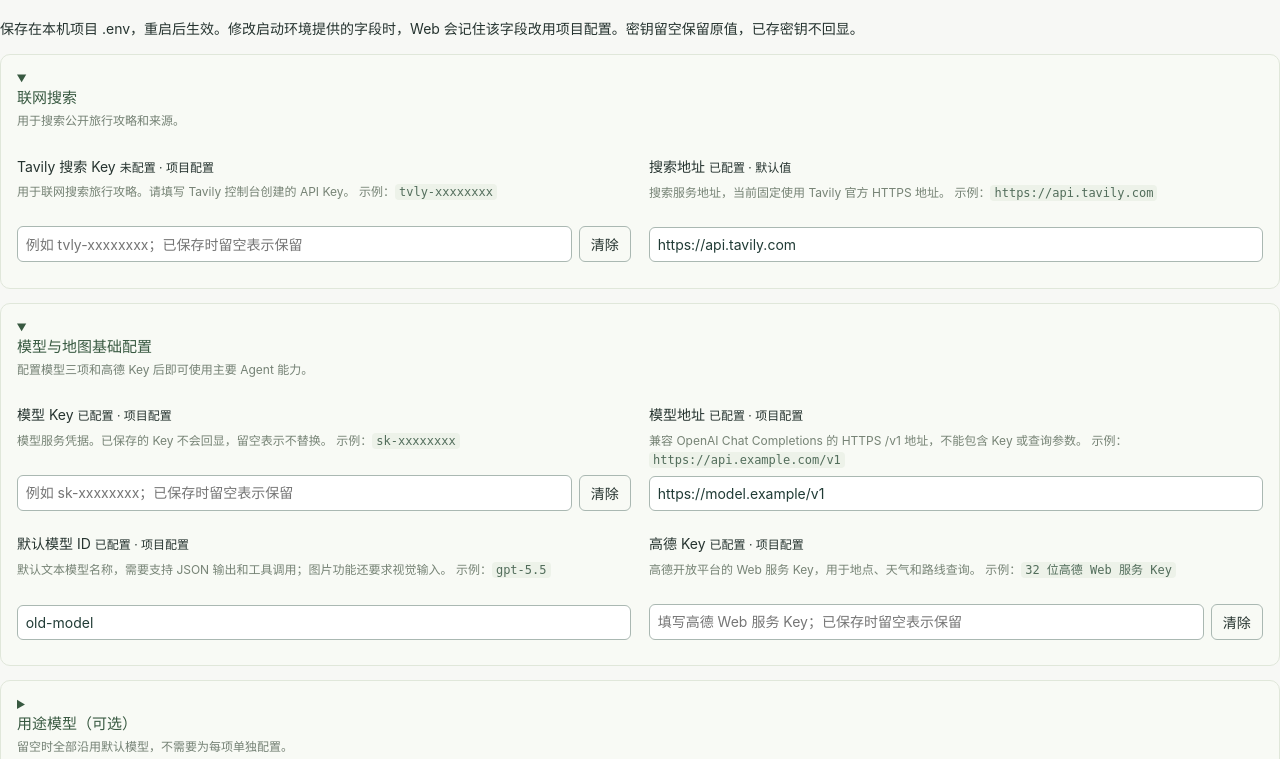
Test: explains why changing a configured model endpoint requires a replacement key
This screenshot has width=1280, height=759.
Replace the text in the field labelled "模型地址 已配置 · 项目配置" with "https://new.example/v1" at (956, 493), box 649,476 -> 1263,511
(page scrolled)
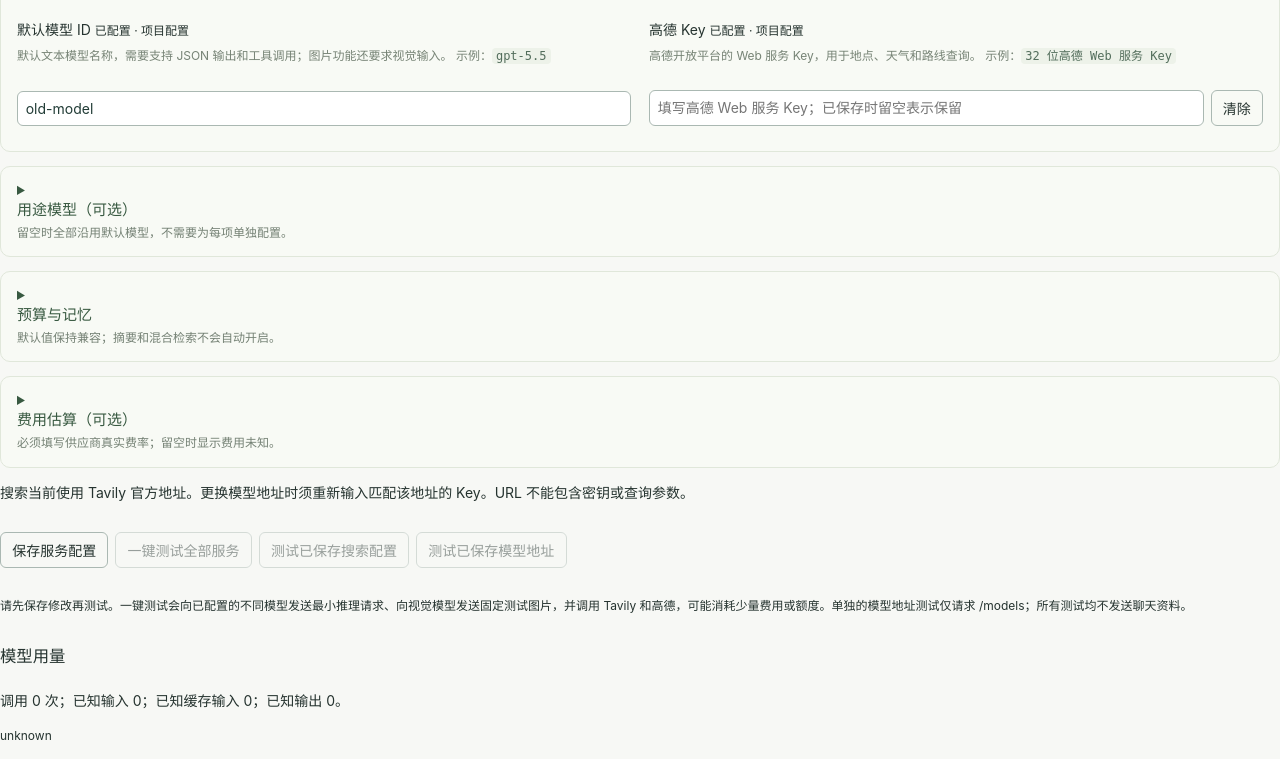
Click the button "保存服务配置" at (54, 550), box 0,532 -> 108,568
(page scrolled)
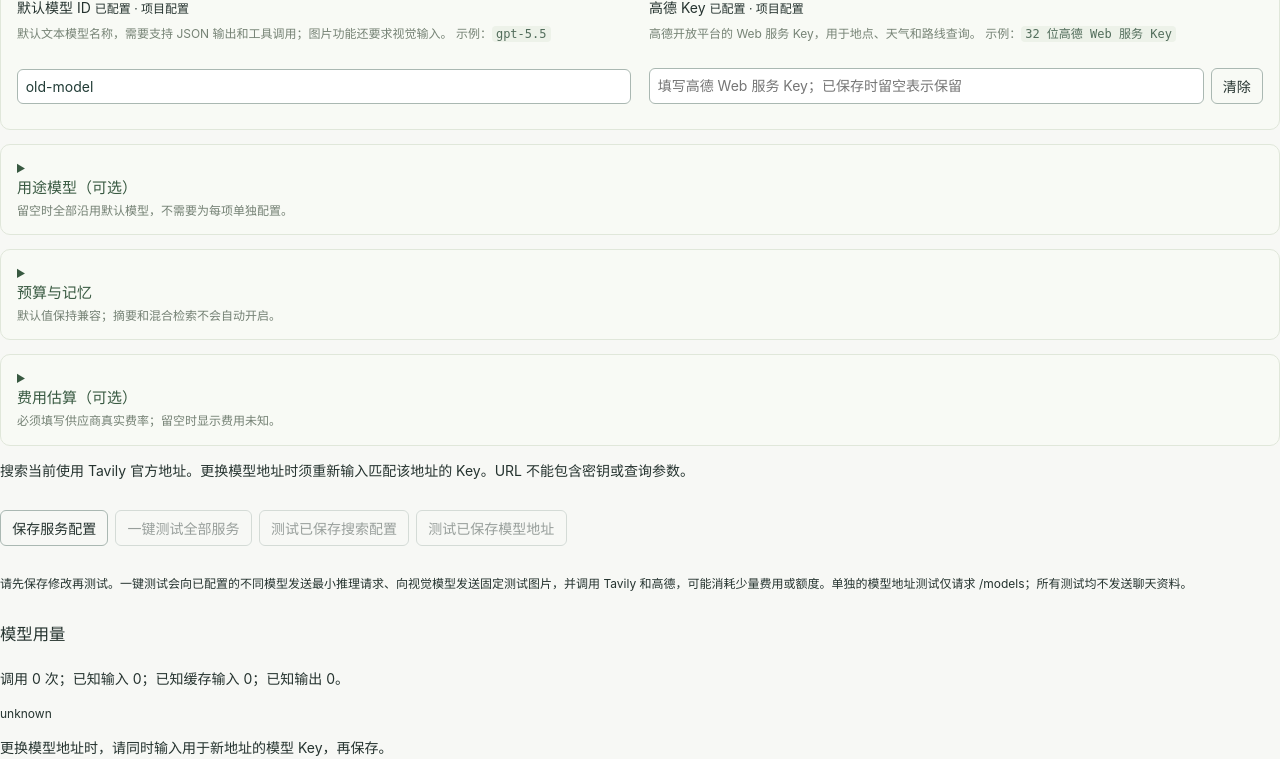
Result: the text "更换模型地址时，请同时输入用于新地址的模型 Key，再保存。" is shown at 0,739 -> 392,756
